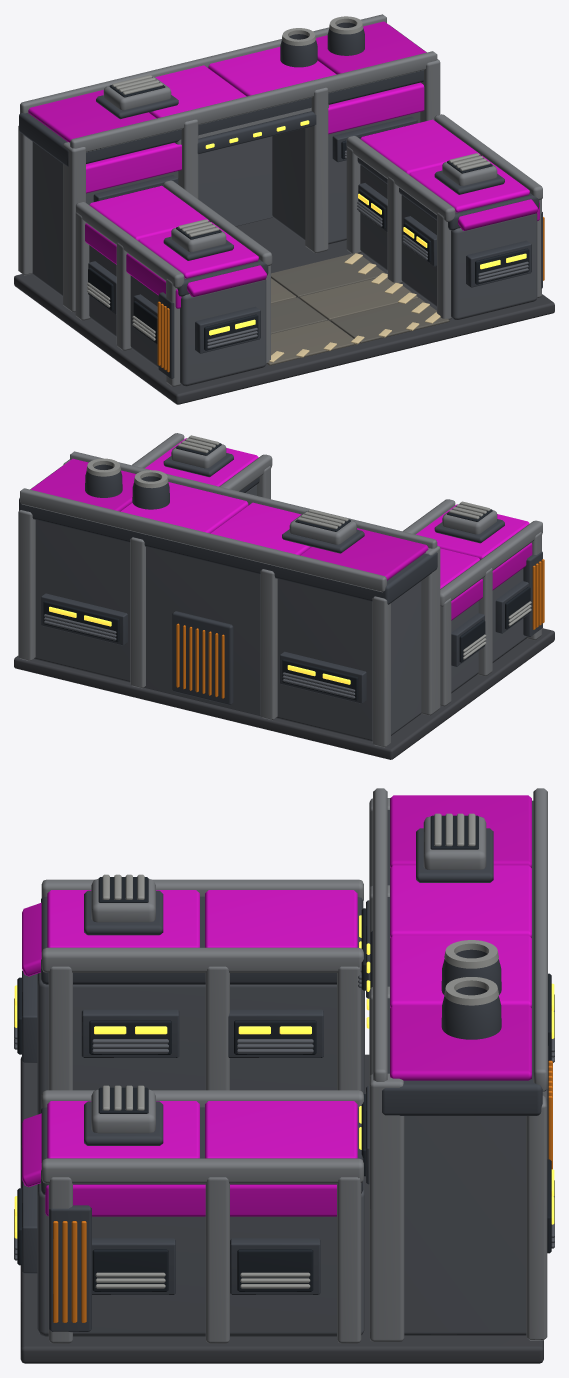
File: barracks.glb
The picture shows the model from 3 angles, top to bottom: view 1: azimuth 30°, elevation 25°; view 2: azimuth 150°, elevation 25°; view 3: azimuth 270°, elevation 25°; orthographic projection. The views are drawn at different scales.
Visible parts, largest first — view 1: Barracks.001; view 2: Barracks.001; view 3: Barracks.001.
Part boxes in pixels (x1,y1,x2,y2): Barracks.001: (14,14,554,404); Barracks.001: (14,433,554,759); Barracks.001: (14,788,554,1363).
Bounding box in the file's own units: 4 × 2.05 × 3.1.
